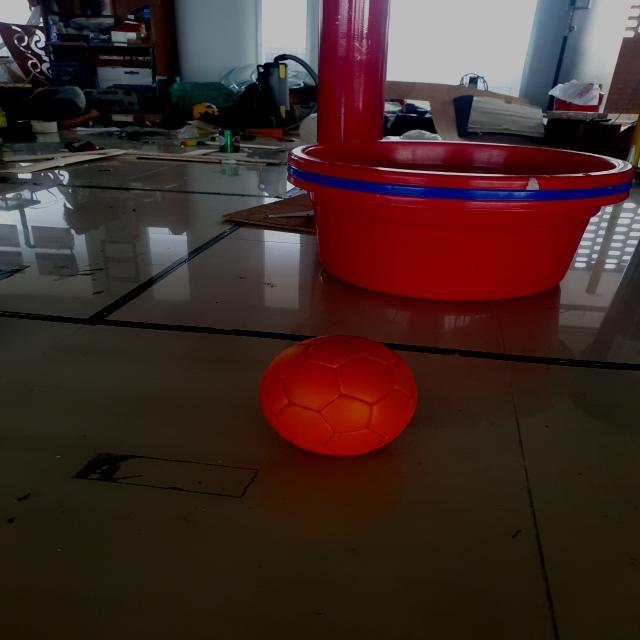bola: (249, 327, 429, 462)
